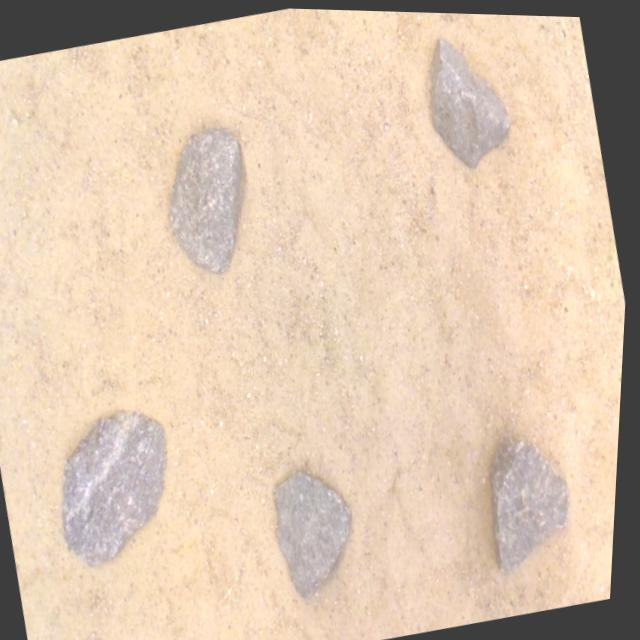rock: (68, 409, 172, 564), (495, 434, 575, 566), (172, 126, 244, 270), (432, 33, 511, 163), (279, 469, 355, 595)
